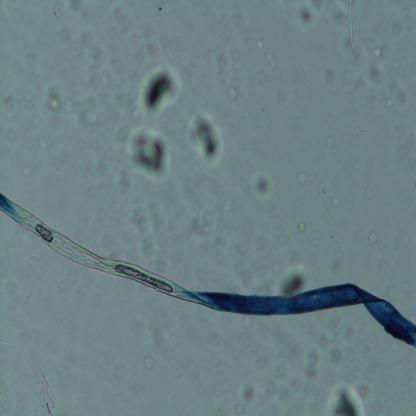Background material: (68, 43, 128, 129), (264, 361, 320, 413), (137, 63, 183, 124), (127, 127, 174, 183), (225, 232, 281, 277), (182, 110, 225, 168), (318, 304, 358, 360), (108, 13, 150, 63), (127, 210, 172, 256), (0, 74, 30, 142), (0, 270, 30, 326), (326, 378, 366, 415), (31, 142, 73, 176), (294, 0, 330, 31), (382, 78, 414, 112), (146, 325, 184, 353), (363, 38, 385, 84), (382, 13, 411, 42), (235, 378, 260, 410), (279, 268, 307, 296), (304, 343, 322, 386), (233, 328, 260, 356), (38, 372, 56, 414), (252, 172, 275, 200), (214, 52, 231, 85), (193, 211, 213, 238), (77, 22, 102, 43), (66, 1, 90, 21), (320, 67, 340, 90), (136, 353, 158, 371), (224, 86, 242, 107), (47, 92, 62, 116), (16, 159, 31, 180), (324, 136, 340, 153), (25, 250, 44, 264), (239, 313, 258, 327), (381, 259, 392, 280), (264, 54, 278, 69), (295, 220, 309, 234), (253, 38, 265, 53), (369, 229, 380, 245), (297, 170, 307, 186), (331, 193, 341, 207), (321, 184, 330, 195)
Cotton: (0, 192, 416, 351)
Glass filter fibre: (0, 377, 37, 404), (347, 1, 359, 55), (0, 337, 26, 350)
